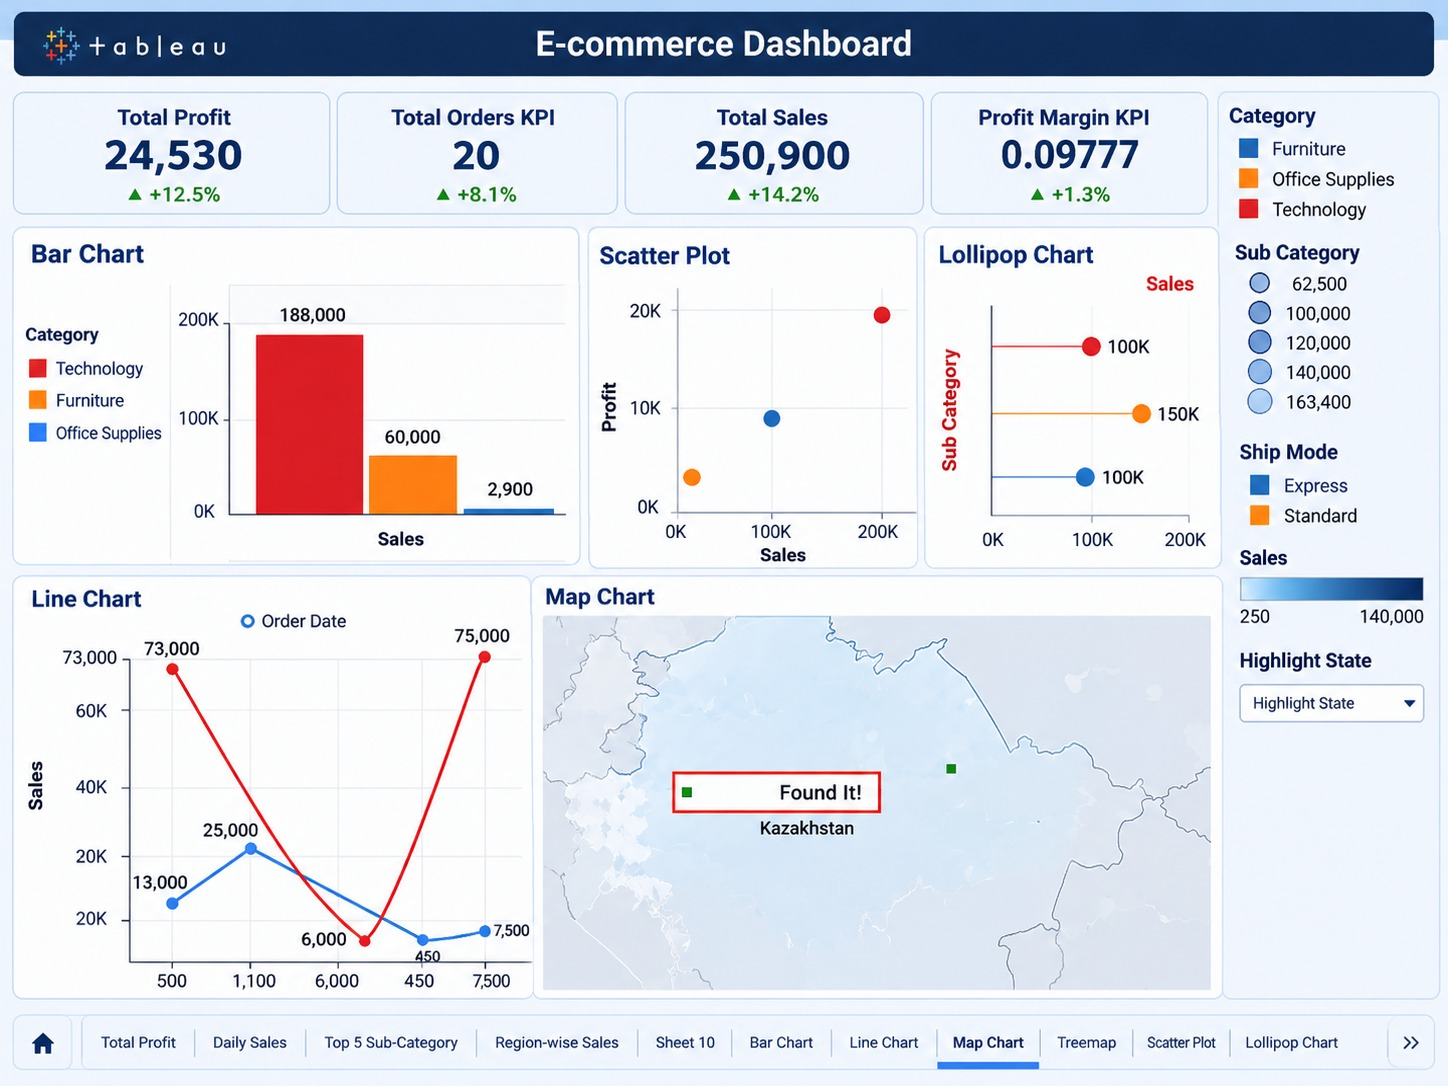

This screenshot's page, from the dashboard's own definition file:
{"tool":"tableau","page":{"name":"Dashboard 1","canvas":[1000,1000],"units":"permille","ordinal":0},"visuals":[{"type":"title","box":[7.1,15.1,985.8,79.2]},{"type":"worksheet","title":"Total Profit","mark":"Automatic","box":[7.1,94.3,210.8,90.7]},{"type":"worksheet","title":"Total Orders KPI","mark":"Automatic","box":[217.9,94.3,211,90.7]},{"type":"worksheet","title":"Total Sales","mark":"Automatic","box":[428.9,94.3,210.9,90.7]},{"type":"worksheet","title":"Profit Margin KPI","mark":"Automatic","box":[639.8,94.3,211,90.7]},{"type":"legend","title":"Bar Chart","param":"[federated.11vf9hg0j1rdjl1bymp561lffxl8].[none:Category:nk]","box":[850.8,94.3,142.1,162.3]},{"type":"worksheet","title":"Bar Chart","mark":"Automatic","rows":["Category"],"cols":["Sales"],"box":[7.1,185.1,210.8,295.3]},{"type":"worksheet","title":"Treemap","mark":"Automatic","box":[217.9,185.1,211,295.3]},{"type":"worksheet","title":"Scatter Plot","mark":"Circle","rows":["Profit"],"cols":["Sales"],"box":[428.9,185.1,210.9,295.3]},{"type":"worksheet","title":"Lolipop Chart","mark":"Automatic","rows":["Calculation_0766147833864201"],"cols":["Sales","Sales"],"box":[639.8,185.1,211,295.3]},{"type":"legend","title":"Lolipop Chart","param":"[federated.11vf9hg0j1rdjl1bymp561lffxl8].[usr:Calculation_0766147833864201:qk]","box":[850.8,256.6,142.1,237.7]},{"type":"worksheet","title":"Line Chart","mark":"Line","rows":["Sales"],"cols":["Order Date"],"box":[7.1,480.4,247.7,504.5]},{"type":"worksheet","title":"Map Chart","mark":"Multipolygon","box":[254.8,480.4,596,504.5]},{"type":"legend","title":"Lolipop Chart","param":"[federated.11vf9hg0j1rdjl1bymp561lffxl8].[none:Ship Mode:nk]","box":[850.8,494.3,142.1,124.5]},{"type":"legend","title":"Map Chart","param":"[federated.11vf9hg0j1rdjl1bymp561lffxl8].[sum:Sales:qk]","box":[850.8,618.8,142.1,122.6]}]}

Visuals, with their boxes on the dashboard's canvas, which has no fixed pixel size, in thousandths of its width and height (x1, y1, x2, y2). These are canvas units, not pixel positions in the 1448x1086 screenshot, which may show the page scaled, cropped or inside an application window:
title: bbox=[7, 15, 993, 94]
"Total Profit" worksheet: bbox=[7, 94, 218, 185]
"Total Orders KPI" worksheet: bbox=[218, 94, 429, 185]
"Total Sales" worksheet: bbox=[429, 94, 640, 185]
"Profit Margin KPI" worksheet: bbox=[640, 94, 851, 185]
"Bar Chart" legend: bbox=[851, 94, 993, 257]
"Bar Chart" worksheet: bbox=[7, 185, 218, 480]
"Treemap" worksheet: bbox=[218, 185, 429, 480]
"Scatter Plot" worksheet (Circle marks): bbox=[429, 185, 640, 480]
"Lolipop Chart" worksheet: bbox=[640, 185, 851, 480]
"Lolipop Chart" legend: bbox=[851, 257, 993, 494]
"Line Chart" worksheet (Line marks): bbox=[7, 480, 255, 985]
"Map Chart" worksheet (Multipolygon marks): bbox=[255, 480, 851, 985]
"Lolipop Chart" legend: bbox=[851, 494, 993, 619]
"Map Chart" legend: bbox=[851, 619, 993, 741]
